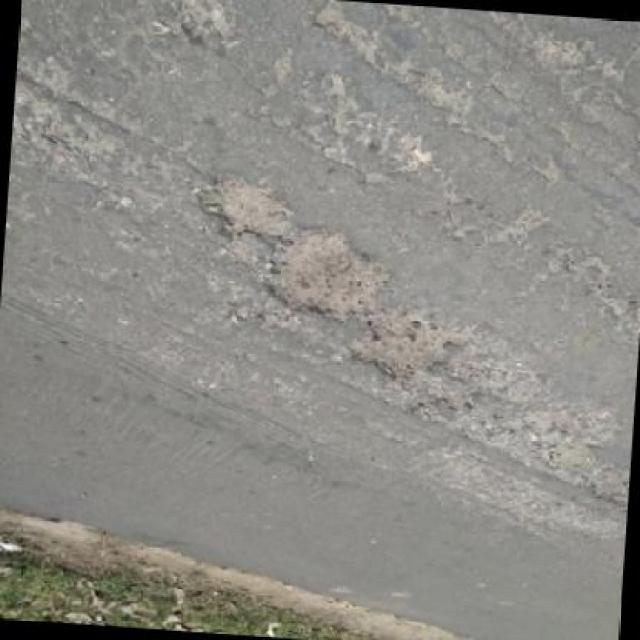pothole1: (503, 404, 632, 514), (260, 225, 394, 327), (348, 304, 458, 390), (198, 168, 296, 245)
